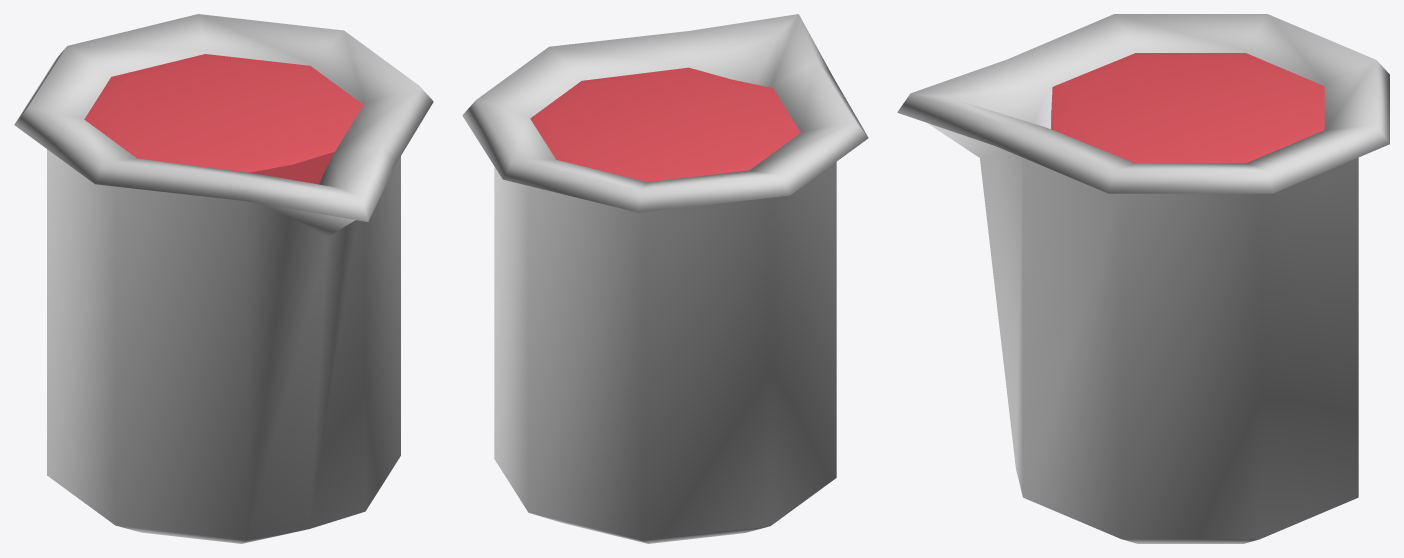
The model's file is largebeaker.fbx.
3 views of the same model, side by side, from view 1: azimuth 30°, elevation 25°; view 2: azimuth 150°, elevation 25°; view 3: azimuth 270°, elevation 25° (orthographic). The views are drawn at different scales.
Visible parts, largest first — view 1: LargeBeaker, LargeBeaker.Liquid; view 2: LargeBeaker, LargeBeaker.Liquid; view 3: LargeBeaker, LargeBeaker.Liquid.
Boxes of the visible parts, left/top/right/bottom form: LargeBeaker: left=14, top=14, right=433, bottom=543; LargeBeaker.Liquid: left=84, top=54, right=363, bottom=184; LargeBeaker: left=462, top=14, right=868, bottom=543; LargeBeaker.Liquid: left=530, top=67, right=800, bottom=181; LargeBeaker: left=897, top=14, right=1389, bottom=543; LargeBeaker.Liquid: left=1051, top=53, right=1324, bottom=163.
Bounding box in the file's own units: 0.2949 × 0.3251 × 0.3649.
